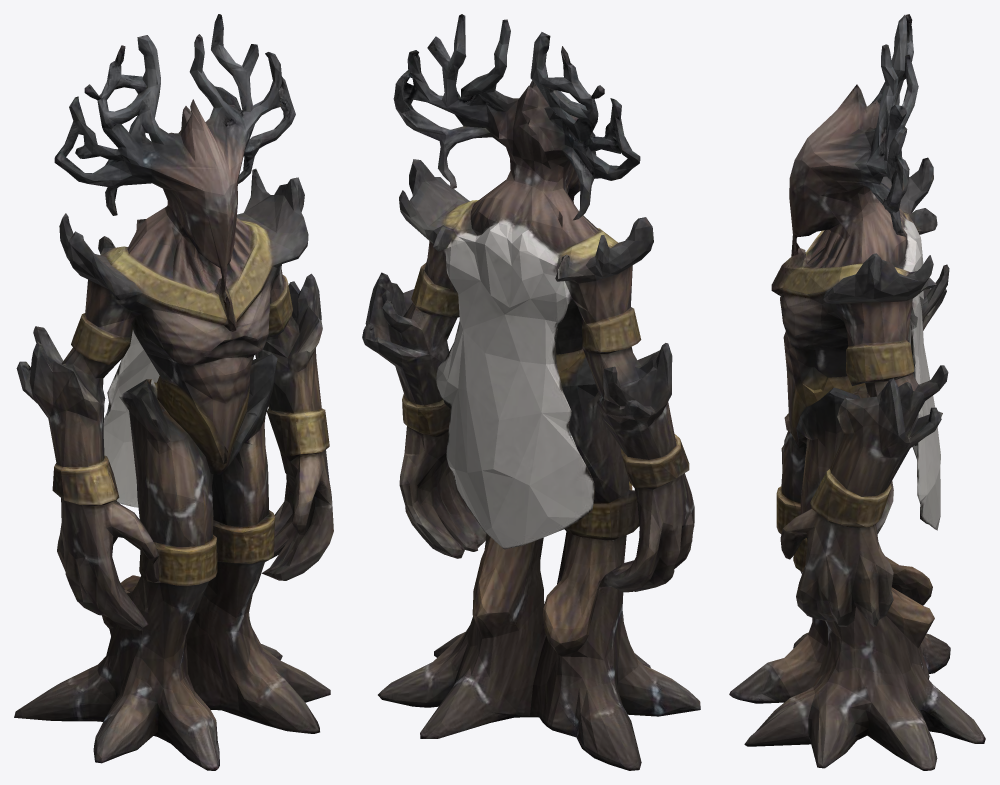
Rendered from emberwoodSentinel.glb.
3 renders of one model, left to right at view 1: azimuth 30°, elevation 25°; view 2: azimuth 150°, elevation 25°; view 3: azimuth 270°, elevation 25°, orthographic. The views are drawn at different scales.
Parts seen in each view (by area): view 1: world; view 2: world; view 3: world.
Part boxes in pixels (x1,y1,x2,y2): world: [14, 14, 333, 770]; world: [362, 14, 700, 770]; world: [729, 14, 985, 770].
Bounding box in the file's own units: 0.4545 × 0.9997 × 0.3382.
Materials: 1 (1 with a texture image).
